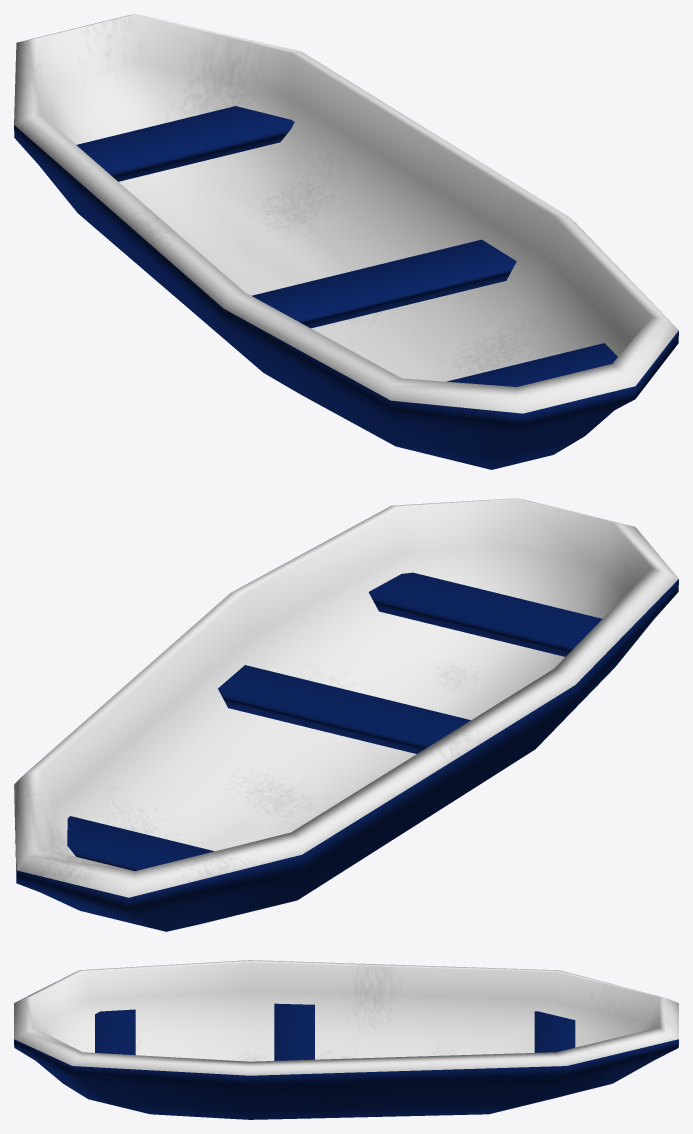
Rendered from Boat.fbx.
The picture shows the model from 3 angles, top to bottom: view 1: azimuth 30°, elevation 25°; view 2: azimuth 150°, elevation 25°; view 3: azimuth 270°, elevation 25°; orthographic projection. The views are drawn at different scales.
Parts seen in each view (by area): view 1: pCube7; view 2: pCube7; view 3: pCube7.
Part boxes in pixels (<box>): pCube7: <box>14,14,678,469</box>; pCube7: <box>14,498,678,931</box>; pCube7: <box>14,960,678,1119</box>.
Size of the model in its own units: 199 by 77.21 by 497.
